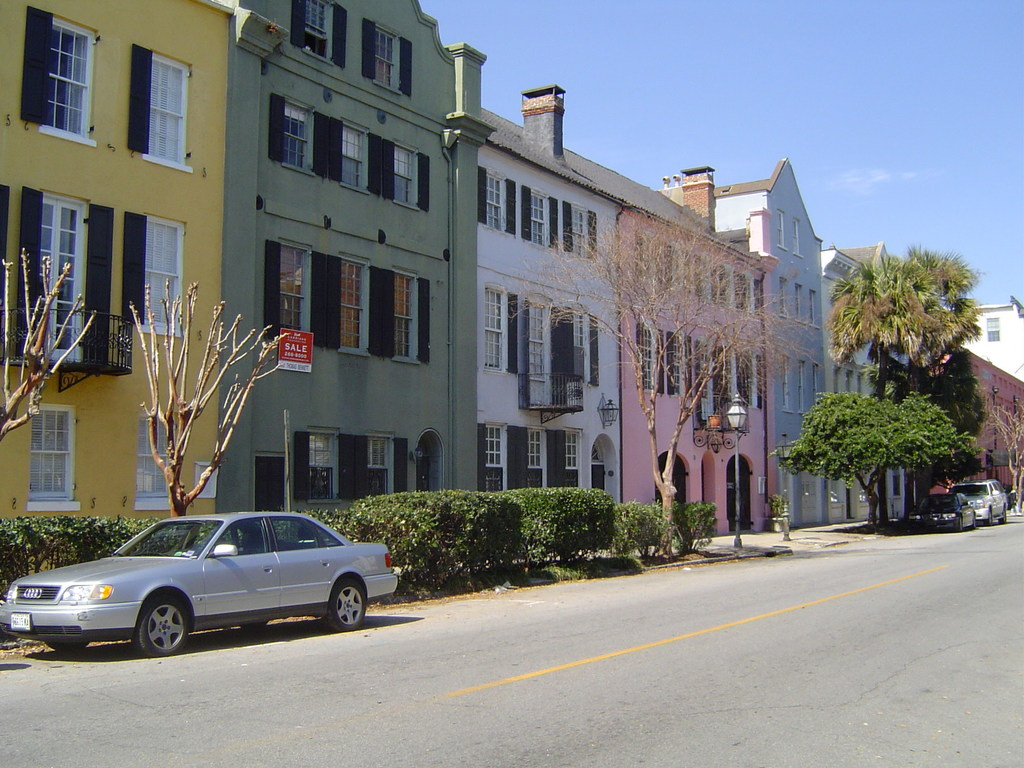cars: (8, 507, 395, 660), (947, 479, 1008, 525), (908, 492, 974, 530)
